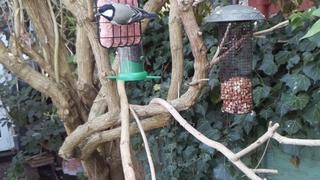great tit: (94, 3, 158, 26)
